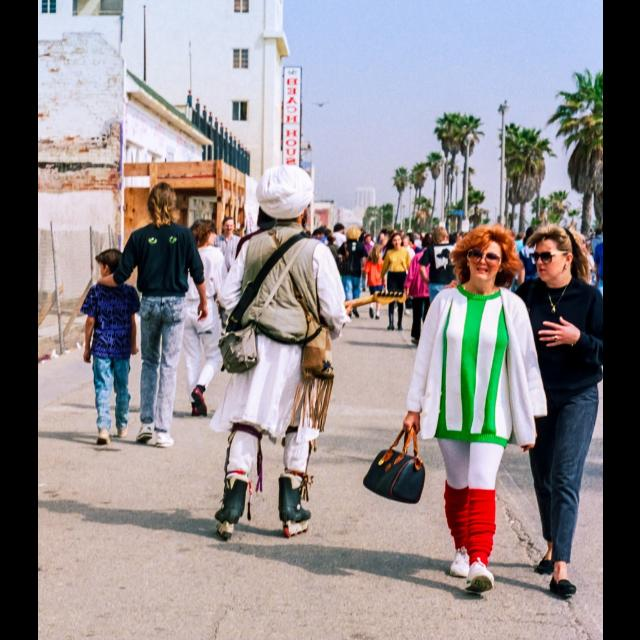head: (534, 227, 578, 283), (268, 177, 310, 226), (465, 235, 507, 283), (258, 193, 292, 229), (146, 184, 178, 222), (99, 248, 127, 284), (193, 221, 219, 247), (222, 217, 236, 235), (434, 226, 448, 244), (391, 234, 404, 250), (422, 237, 436, 251), (347, 228, 359, 240), (334, 222, 346, 234), (374, 246, 384, 258), (401, 236, 411, 248), (328, 234, 337, 242), (365, 234, 373, 243)
person: (362, 224, 550, 598), (214, 165, 350, 543), (95, 181, 209, 449), (233, 191, 315, 447), (78, 247, 140, 445), (171, 217, 229, 419), (419, 225, 463, 357), (403, 233, 443, 349), (208, 214, 246, 336), (376, 232, 414, 332), (334, 224, 368, 320), (323, 222, 349, 302), (362, 243, 388, 321), (393, 234, 417, 316), (318, 232, 342, 308), (358, 234, 376, 292)
